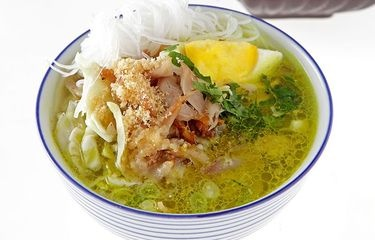soto: (36, 14, 315, 211)
